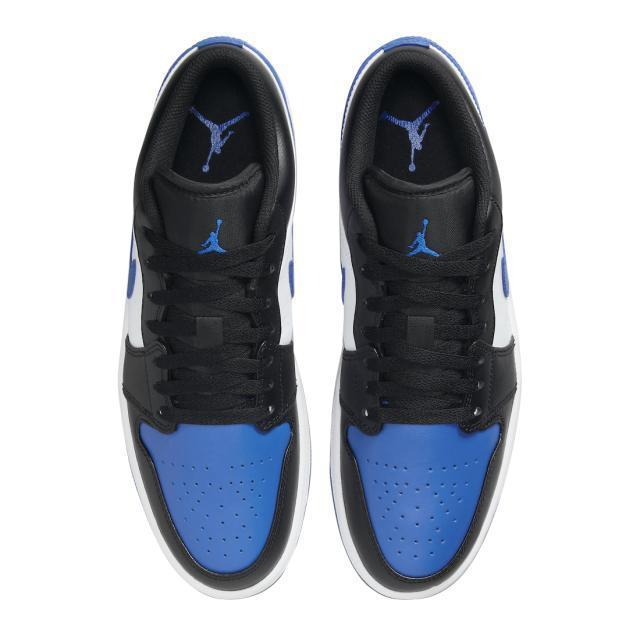nike original jordan 1: (331, 33, 524, 604), (120, 38, 316, 600)
